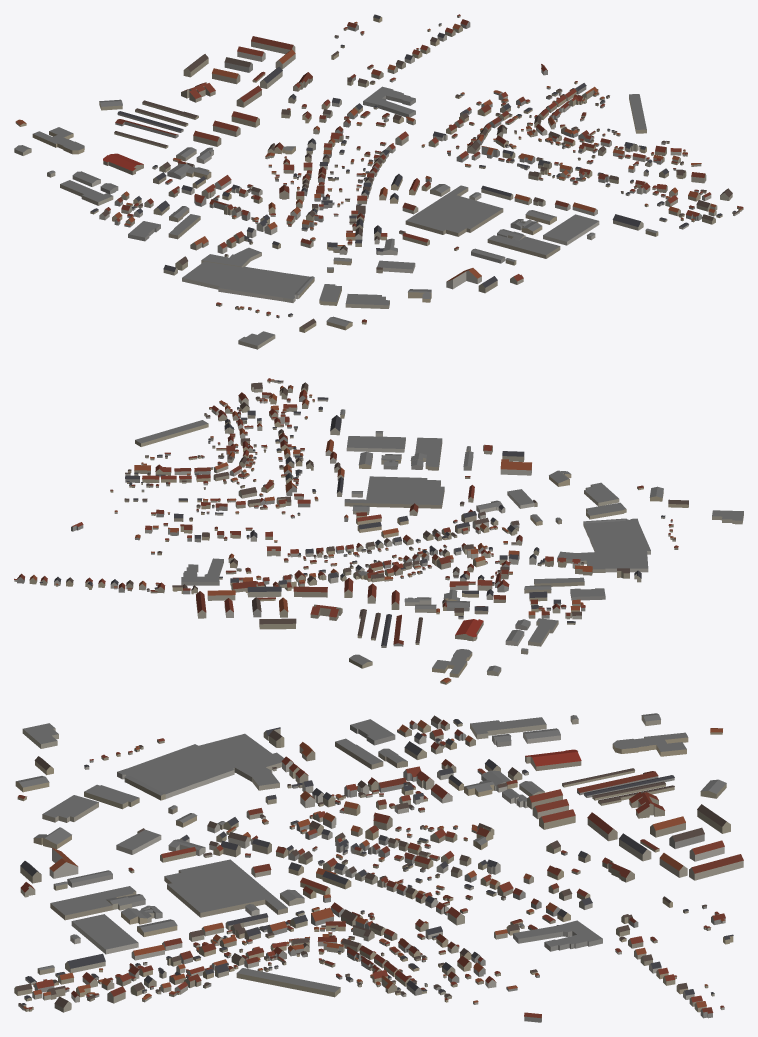
3 renders of one model, top to bottom at view 1: azimuth 30°, elevation 25°; view 2: azimuth 150°, elevation 25°; view 3: azimuth 270°, elevation 25°, orthographic. The views are drawn at different scales.
Parts seen in each view (by area): view 1: buildings; view 2: buildings; view 3: buildings.
Boxes of the visible parts, left/top/right/bottom form: buildings: left=14, top=14, right=743, bottom=349; buildings: left=14, top=378, right=743, bottom=684; buildings: left=14, top=713, right=743, bottom=1022.
Size of the model in its own units: 853 by 68.93 by 822.
